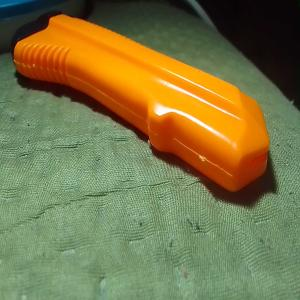estilete: (12, 10, 272, 193)
